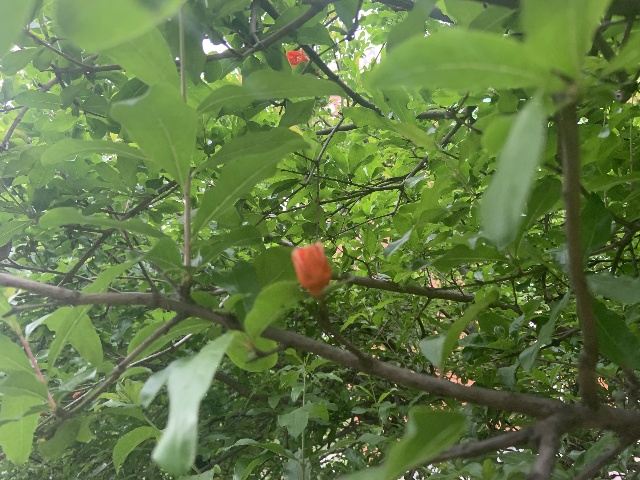bud: (72, 390, 82, 399)
flower: (290, 241, 332, 297), (285, 47, 309, 67)
